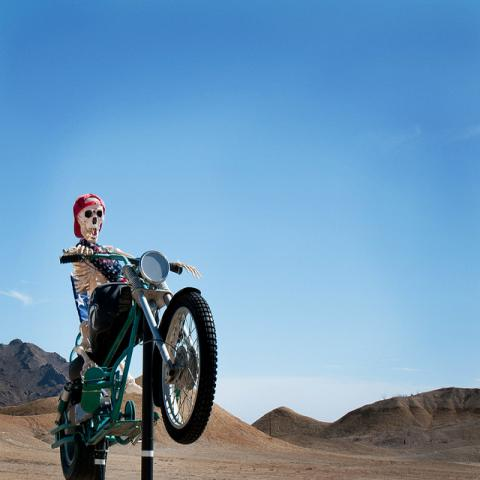motorcycle: (52, 248, 223, 473)
